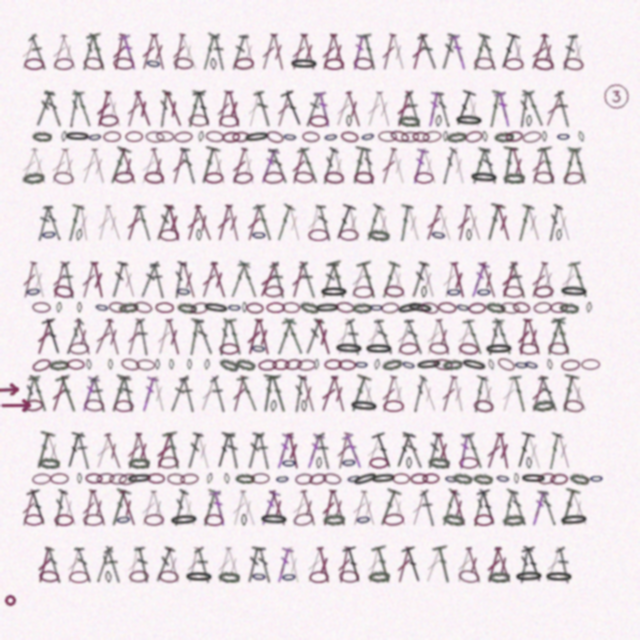chain: (351, 470, 380, 488), (396, 300, 424, 316), (460, 357, 488, 373), (349, 399, 379, 413), (169, 513, 199, 527), (559, 513, 589, 527), (243, 130, 271, 144), (202, 301, 230, 315), (406, 301, 434, 315), (454, 114, 484, 127), (469, 171, 499, 184), (559, 285, 589, 298), (334, 342, 364, 355), (259, 513, 289, 526), (514, 570, 544, 583), (415, 358, 443, 371), (289, 58, 319, 70), (319, 286, 349, 298), (364, 343, 394, 355), (484, 343, 514, 355), (184, 571, 214, 583), (544, 571, 574, 583), (218, 357, 240, 373), (126, 472, 153, 485), (370, 472, 397, 485), (532, 398, 555, 413), (442, 512, 465, 527), (496, 356, 516, 373), (31, 357, 52, 373), (381, 357, 403, 372), (458, 569, 480, 584), (314, 302, 341, 314), (22, 171, 45, 185), (367, 228, 390, 242), (502, 513, 525, 527), (265, 129, 285, 145), (83, 56, 104, 71), (389, 129, 410, 144), (53, 284, 74, 299), (299, 300, 320, 315), (120, 357, 141, 372), (235, 357, 256, 372), (293, 512, 314, 527), (464, 129, 484, 144), (133, 300, 153, 315), (64, 131, 91, 142), (520, 473, 547, 484), (533, 57, 554, 71), (563, 57, 584, 71), (446, 130, 467, 144), (53, 171, 74, 185), (233, 171, 254, 185), (563, 171, 584, 185), (458, 342, 479, 356), (473, 399, 494, 413), (563, 399, 584, 413), (569, 472, 590, 486), (428, 456, 450, 469), (323, 513, 345, 526), (368, 570, 390, 583), (522, 130, 542, 144), (500, 301, 520, 315), (118, 472, 138, 486), (308, 472, 328, 486), (322, 472, 342, 486), (113, 57, 134, 70), (173, 57, 194, 70), (353, 57, 374, 70), (188, 114, 209, 127), (263, 171, 284, 184), (533, 285, 554, 298), (118, 301, 139, 314), (485, 301, 506, 314), (548, 342, 569, 355), (442, 358, 463, 371), (23, 399, 44, 412), (158, 456, 179, 469), (452, 472, 473, 485), (383, 513, 404, 526), (158, 570, 179, 583), (340, 130, 359, 144), (190, 301, 209, 315), (420, 301, 439, 315), (398, 115, 420, 127), (503, 172, 525, 184), (38, 457, 60, 469), (128, 457, 150, 469), (218, 571, 240, 583), (488, 571, 510, 583), (234, 57, 254, 70), (474, 57, 494, 70), (99, 114, 119, 127), (205, 130, 225, 143), (422, 130, 442, 143), (114, 171, 134, 184), (144, 171, 164, 184), (294, 171, 314, 184), (324, 171, 344, 184), (354, 171, 374, 184), (534, 171, 554, 184), (264, 285, 284, 298), (384, 285, 404, 298), (335, 301, 355, 314), (437, 301, 457, 314), (69, 342, 89, 355), (399, 342, 419, 355), (429, 342, 449, 355), (433, 358, 453, 371), (84, 399, 104, 412), (39, 570, 59, 583), (129, 570, 149, 583), (339, 570, 359, 583), (308, 229, 329, 241), (353, 286, 374, 298), (503, 286, 524, 298), (383, 400, 404, 412), (83, 514, 104, 526), (505, 130, 524, 143), (108, 301, 127, 314), (512, 301, 531, 314), (533, 301, 552, 314), (284, 358, 303, 371), (96, 472, 115, 485), (537, 472, 556, 485), (24, 58, 44, 70), (54, 58, 74, 70), (324, 58, 344, 70), (504, 58, 524, 70), (219, 115, 239, 127), (309, 115, 329, 127), (145, 131, 165, 143), (494, 131, 514, 143), (204, 172, 224, 184), (414, 172, 434, 184), (159, 229, 179, 241), (339, 229, 359, 241), (177, 302, 197, 314), (352, 302, 372, 314), (559, 302, 579, 314), (219, 343, 239, 355), (519, 343, 539, 355), (49, 359, 69, 371), (114, 400, 134, 412), (369, 457, 389, 469), (459, 457, 479, 469), (473, 473, 493, 485), (24, 514, 44, 526), (54, 514, 74, 526), (144, 514, 164, 526), (204, 514, 224, 526), (474, 514, 494, 526), (69, 571, 89, 583), (309, 571, 329, 583), (430, 228, 447, 242), (400, 358, 417, 372), (523, 358, 540, 372), (174, 131, 193, 143), (136, 359, 155, 371), (258, 359, 277, 371), (297, 359, 316, 371), (561, 359, 580, 371), (32, 473, 51, 485), (180, 473, 199, 485), (281, 570, 297, 584), (145, 57, 162, 70), (25, 285, 42, 298), (175, 285, 192, 298), (250, 342, 267, 355), (115, 513, 132, 526), (355, 513, 372, 526), (32, 131, 52, 142), (235, 473, 255, 484), (222, 131, 240, 143), (232, 131, 250, 143), (302, 131, 320, 143), (401, 131, 419, 143), (412, 131, 430, 143), (246, 302, 264, 314), (381, 302, 399, 314), (468, 302, 486, 314), (338, 359, 356, 371), (109, 473, 127, 485), (167, 473, 185, 485), (295, 473, 313, 485), (550, 473, 568, 485), (378, 131, 397, 142), (32, 302, 51, 313), (155, 302, 174, 313), (266, 302, 285, 313), (581, 359, 600, 370), (50, 473, 69, 484), (251, 473, 270, 484), (360, 130, 376, 143), (41, 228, 57, 241), (94, 301, 110, 314), (455, 301, 471, 314), (341, 456, 357, 469), (346, 472, 362, 485), (495, 472, 511, 485), (251, 570, 267, 583), (103, 131, 121, 142), (125, 131, 143, 142), (156, 131, 174, 142), (282, 302, 300, 313), (550, 302, 568, 313), (67, 359, 85, 370), (272, 359, 290, 370), (324, 359, 342, 370), (85, 473, 103, 484), (147, 473, 165, 484), (392, 473, 410, 484), (410, 473, 428, 484), (422, 473, 440, 484), (87, 131, 103, 143), (282, 131, 298, 143), (323, 131, 339, 143), (251, 229, 267, 241), (446, 286, 462, 298), (476, 286, 492, 298), (281, 457, 297, 469), (514, 359, 529, 371), (275, 473, 290, 485), (444, 473, 459, 485), (556, 131, 571, 142), (227, 302, 242, 313), (369, 302, 384, 313), (354, 359, 369, 370), (589, 473, 604, 484), (75, 229, 83, 241), (210, 58, 217, 70), (435, 115, 442, 127), (270, 400, 277, 412), (105, 571, 112, 583), (578, 131, 585, 142), (488, 359, 495, 370), (206, 473, 213, 484), (346, 115, 352, 127), (526, 115, 532, 127), (196, 229, 202, 241), (466, 229, 472, 241), (556, 229, 562, 241), (421, 286, 427, 298), (301, 400, 307, 412), (316, 457, 322, 469), (406, 457, 412, 469), (526, 457, 532, 469), (241, 514, 247, 526), (61, 131, 67, 142), (198, 131, 204, 142), (482, 131, 488, 142), (56, 302, 62, 313), (586, 302, 592, 313), (86, 359, 92, 370), (204, 359, 210, 370), (374, 359, 380, 370), (547, 359, 553, 370), (224, 473, 230, 484), (443, 131, 448, 142), (542, 131, 547, 142), (77, 302, 82, 313), (242, 302, 247, 313), (108, 359, 113, 370), (155, 359, 160, 370), (169, 359, 174, 370), (187, 359, 192, 370), (314, 359, 319, 370), (77, 473, 82, 484), (514, 473, 519, 484)
double: (105, 146, 132, 186), (55, 374, 82, 414), (375, 488, 402, 528), (280, 89, 307, 128), (356, 260, 382, 300), (106, 374, 132, 414), (266, 374, 292, 414), (346, 374, 372, 414), (106, 488, 132, 528), (451, 89, 477, 128), (521, 89, 547, 128), (331, 203, 357, 242), (271, 317, 297, 356), (371, 431, 397, 470), (391, 431, 417, 470), (521, 545, 547, 584), (86, 32, 111, 72), (496, 32, 521, 71), (196, 146, 221, 185), (296, 146, 321, 185), (466, 146, 491, 185), (226, 260, 251, 299), (326, 260, 351, 299), (376, 260, 401, 299), (41, 317, 66, 356), (281, 317, 306, 356), (541, 317, 566, 356), (551, 317, 576, 356), (236, 374, 261, 413), (31, 431, 56, 470), (461, 431, 486, 470), (26, 488, 51, 527), (476, 488, 501, 527), (556, 488, 581, 527), (371, 545, 396, 584), (401, 545, 426, 584), (256, 261, 281, 299), (91, 318, 116, 356), (566, 375, 591, 413), (341, 432, 366, 470), (467, 32, 491, 71), (192, 89, 216, 128), (347, 146, 371, 185), (537, 146, 561, 185), (272, 203, 296, 242), (482, 203, 506, 242), (237, 260, 261, 299), (567, 260, 591, 299), (462, 317, 486, 356), (62, 431, 86, 470), (162, 431, 186, 470), (212, 431, 236, 470), (512, 431, 536, 470), (197, 488, 221, 527), (437, 488, 461, 527), (342, 545, 366, 584), (432, 545, 456, 584), (177, 33, 201, 71), (417, 33, 441, 71), (527, 33, 551, 71), (32, 90, 56, 128), (162, 90, 186, 128), (542, 90, 566, 128), (17, 147, 41, 185), (192, 204, 216, 242), (257, 489, 281, 527), (567, 489, 591, 527), (152, 546, 176, 584), (72, 89, 95, 128), (182, 89, 205, 128), (557, 146, 580, 185), (62, 203, 85, 242), (252, 203, 275, 242), (362, 203, 385, 242), (512, 203, 535, 242), (492, 317, 515, 356), (27, 374, 50, 413), (557, 374, 580, 413), (17, 33, 40, 71), (27, 33, 50, 71), (57, 33, 80, 71), (102, 90, 125, 128), (132, 90, 155, 128), (332, 90, 355, 128), (47, 147, 70, 185), (117, 147, 140, 185), (137, 147, 160, 185), (257, 147, 280, 185), (102, 204, 125, 242), (422, 204, 445, 242), (347, 261, 370, 299), (387, 261, 410, 299), (467, 261, 490, 299), (527, 261, 550, 299), (72, 318, 95, 356), (302, 318, 325, 356), (197, 375, 220, 413), (317, 375, 340, 413), (357, 375, 380, 413), (417, 375, 440, 413), (42, 432, 65, 470), (92, 432, 115, 470), (102, 432, 125, 470), (362, 432, 385, 470), (117, 489, 140, 527), (237, 489, 260, 527), (267, 489, 290, 527), (387, 489, 410, 527), (422, 546, 445, 584), (492, 546, 515, 584), (542, 546, 565, 584), (198, 32, 220, 71), (483, 89, 505, 128), (568, 146, 590, 185), (133, 203, 155, 242), (223, 317, 245, 356), (48, 33, 70, 71), (118, 33, 140, 71), (448, 33, 470, 71), (253, 90, 275, 128), (273, 90, 295, 128), (343, 90, 365, 128), (363, 90, 385, 128), (28, 147, 50, 185), (78, 147, 100, 185), (228, 147, 250, 185), (418, 147, 440, 185), (123, 204, 145, 242), (153, 204, 175, 242), (243, 204, 265, 242), (373, 204, 395, 242), (433, 204, 455, 242), (463, 204, 485, 242), (138, 261, 160, 299), (178, 261, 200, 299), (198, 261, 220, 299), (208, 261, 230, 299), (408, 261, 430, 299), (478, 261, 500, 299), (498, 261, 520, 299), (33, 318, 55, 356), (313, 318, 335, 356), (363, 318, 385, 356), (393, 318, 415, 356), (453, 318, 475, 356), (523, 318, 545, 356), (48, 375, 70, 413), (78, 375, 100, 413), (498, 375, 520, 413), (153, 432, 175, 470), (303, 432, 325, 470), (483, 432, 505, 470), (523, 432, 545, 470), (58, 489, 80, 527), (88, 489, 110, 527), (178, 489, 200, 527), (288, 489, 310, 527), (298, 489, 320, 527), (328, 489, 350, 527), (348, 489, 370, 527), (448, 489, 470, 527), (223, 546, 245, 584), (303, 546, 325, 584), (453, 546, 475, 584), (463, 546, 485, 584), (358, 32, 379, 71), (498, 146, 519, 185), (183, 317, 204, 356), (258, 374, 279, 413), (508, 374, 529, 413), (498, 488, 519, 527), (63, 318, 85, 355), (138, 33, 159, 71), (258, 33, 279, 71), (288, 33, 309, 71), (318, 33, 339, 71), (328, 33, 349, 71), (388, 33, 409, 71), (408, 33, 429, 71), (438, 33, 459, 71), (508, 33, 529, 71), (538, 33, 559, 71), (93, 90, 114, 128), (123, 90, 144, 128), (303, 90, 324, 128), (393, 90, 414, 128), (463, 90, 484, 128), (148, 147, 169, 185), (208, 147, 229, 185), (268, 147, 289, 185), (288, 147, 309, 185), (318, 147, 339, 185), (378, 147, 399, 185), (388, 147, 409, 185), (508, 147, 529, 185), (528, 147, 549, 185), (183, 204, 204, 242), (403, 204, 424, 242), (493, 204, 514, 242), (523, 204, 544, 242), (553, 204, 574, 242), (78, 261, 99, 299), (108, 261, 129, 299), (118, 261, 139, 299), (288, 261, 309, 299), (298, 261, 319, 299), (418, 261, 439, 299), (508, 261, 529, 299), (558, 261, 579, 299), (103, 318, 124, 356), (333, 318, 354, 356), (423, 318, 444, 356), (138, 375, 159, 413), (168, 375, 189, 413), (298, 375, 319, 413), (378, 375, 399, 413), (438, 375, 459, 413), (528, 375, 549, 413), (538, 375, 559, 413), (133, 432, 154, 470), (193, 432, 214, 470), (273, 432, 294, 470), (403, 432, 424, 470), (433, 432, 454, 470), (553, 432, 574, 470), (18, 489, 39, 527), (138, 489, 159, 527), (148, 489, 169, 527), (358, 489, 379, 527), (408, 489, 429, 527), (528, 489, 549, 527), (63, 546, 84, 584), (103, 546, 124, 584), (163, 546, 184, 584), (273, 546, 294, 584), (483, 546, 504, 584), (394, 203, 414, 242), (93, 546, 114, 583), (149, 33, 169, 71), (229, 33, 249, 71), (239, 33, 259, 71), (299, 33, 319, 71), (224, 90, 244, 128), (244, 90, 264, 128), (314, 90, 334, 128), (374, 90, 394, 128), (404, 90, 424, 128), (494, 90, 514, 128), (89, 147, 109, 185), (169, 147, 189, 185), (329, 147, 349, 185), (409, 147, 429, 185), (449, 147, 469, 185), (94, 204, 114, 242), (164, 204, 184, 242), (214, 204, 234, 242), (284, 204, 304, 242), (304, 204, 324, 242), (19, 261, 39, 299), (29, 261, 49, 299), (49, 261, 69, 299), (319, 261, 339, 299), (449, 261, 469, 299), (124, 318, 144, 356), (154, 318, 174, 356), (164, 318, 184, 356), (194, 318, 214, 356), (244, 318, 264, 356), (254, 318, 274, 356), (374, 318, 394, 356), (404, 318, 424, 356), (434, 318, 454, 356), (19, 375, 39, 413), (89, 375, 109, 413), (149, 375, 169, 413), (209, 375, 229, 413), (229, 375, 249, 413), (329, 375, 349, 413), (389, 375, 409, 413), (469, 375, 489, 413), (124, 432, 144, 470), (184, 432, 204, 470), (244, 432, 264, 470), (424, 432, 444, 470), (544, 432, 564, 470), (169, 489, 189, 527), (209, 489, 229, 527), (229, 489, 249, 527), (34, 546, 54, 584), (214, 546, 234, 584), (284, 546, 304, 584), (314, 546, 334, 584), (394, 546, 414, 584), (79, 33, 98, 71), (269, 33, 288, 71), (349, 33, 368, 71), (379, 33, 398, 71), (569, 33, 588, 71), (44, 90, 63, 128), (214, 90, 233, 128), (424, 90, 443, 128), (554, 90, 573, 128), (239, 147, 258, 185), (439, 147, 458, 185), (224, 204, 243, 242), (344, 204, 363, 242), (454, 204, 473, 242), (544, 204, 563, 242), (89, 261, 108, 299), (149, 261, 168, 299), (269, 261, 288, 299), (539, 261, 558, 299), (119, 375, 138, 413), (179, 375, 198, 413), (449, 375, 468, 413), (479, 375, 498, 413), (74, 432, 93, 470), (224, 432, 243, 470), (284, 432, 303, 470), (334, 432, 353, 470), (79, 489, 98, 527), (319, 489, 338, 527), (419, 489, 438, 527), (74, 546, 93, 584), (134, 546, 153, 584), (184, 546, 203, 584), (194, 546, 213, 584), (244, 546, 263, 584), (364, 546, 383, 584), (44, 204, 63, 241), (509, 489, 528, 526), (539, 489, 558, 526), (110, 33, 128, 71), (170, 33, 188, 71), (210, 33, 228, 71), (480, 33, 498, 71), (560, 33, 578, 71), (60, 147, 78, 185), (480, 147, 498, 185), (35, 204, 53, 242), (60, 261, 78, 299), (440, 261, 458, 299), (345, 318, 363, 356), (485, 318, 503, 356), (410, 375, 428, 413), (255, 432, 273, 470), (315, 432, 333, 470), (455, 432, 473, 470), (495, 432, 513, 470), (50, 489, 68, 527), (470, 489, 488, 527), (45, 546, 63, 584), (125, 546, 143, 584), (335, 546, 353, 584), (515, 546, 533, 584), (555, 546, 573, 584), (155, 90, 172, 128), (435, 90, 452, 128), (515, 90, 532, 128), (180, 147, 197, 185), (75, 204, 92, 242), (170, 261, 187, 299), (135, 318, 152, 356), (515, 318, 532, 356), (290, 375, 307, 413), (66, 90, 82, 128), (316, 204, 332, 242), (216, 318, 232, 356), (256, 546, 272, 584), (362, 147, 376, 184)
noise: (601, 81, 631, 111), (0, 399, 33, 412), (0, 383, 21, 396), (3, 593, 17, 607)
